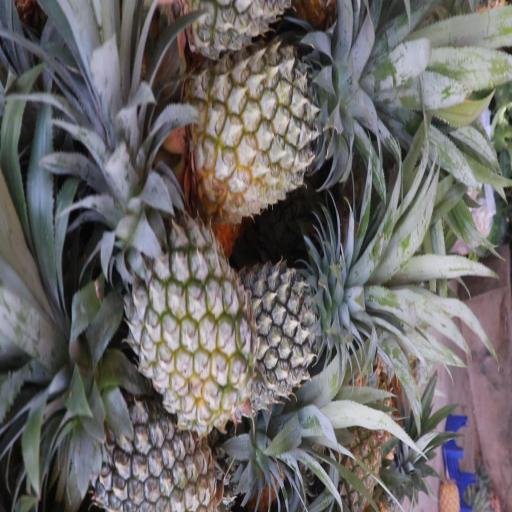------------------------------: (127, 209, 255, 427), (198, 50, 352, 210)
